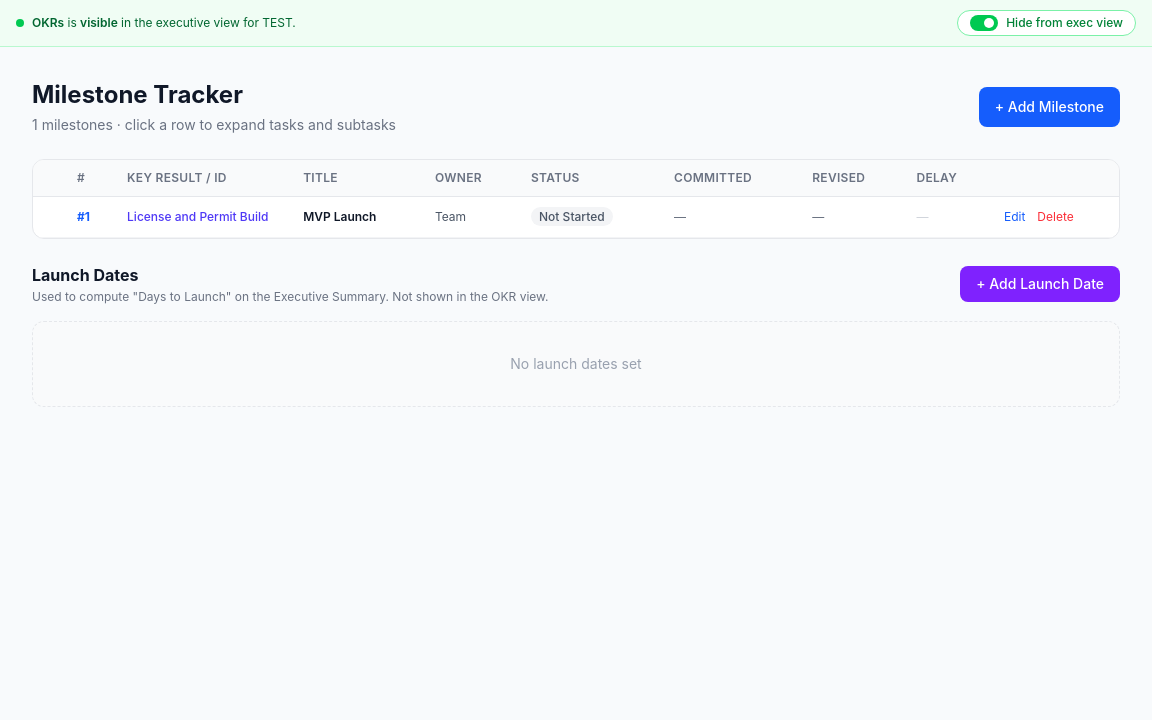
Test: OKREditor › T-32.13: editing a milestone updates its title
Check: the text "MVP Launch" is shown, box [291,196,423,238]
Step 1. Click the button "Edit" → click(1015, 217), box [1004,209,1025,225]
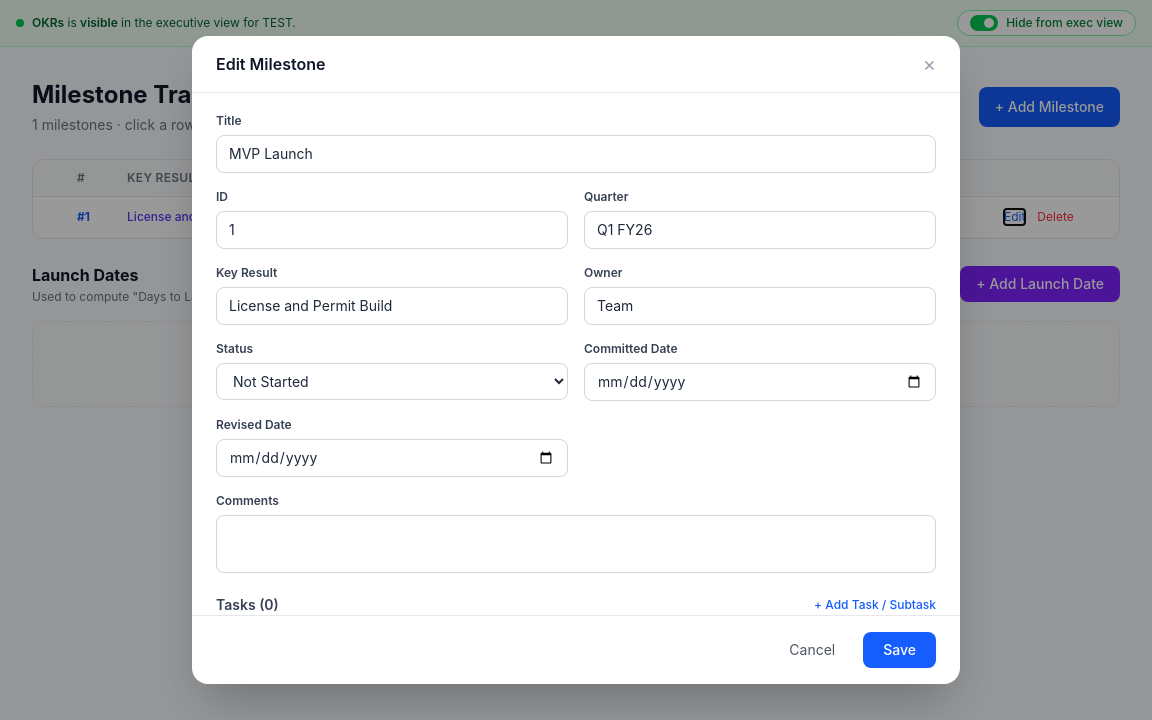
Check: the heading "Edit Milestone" is shown, box [216,52,325,76]
Step 2. Replace the text in the 1st field with "MVP Launch v2" → (576, 154), box [216,135,936,173]
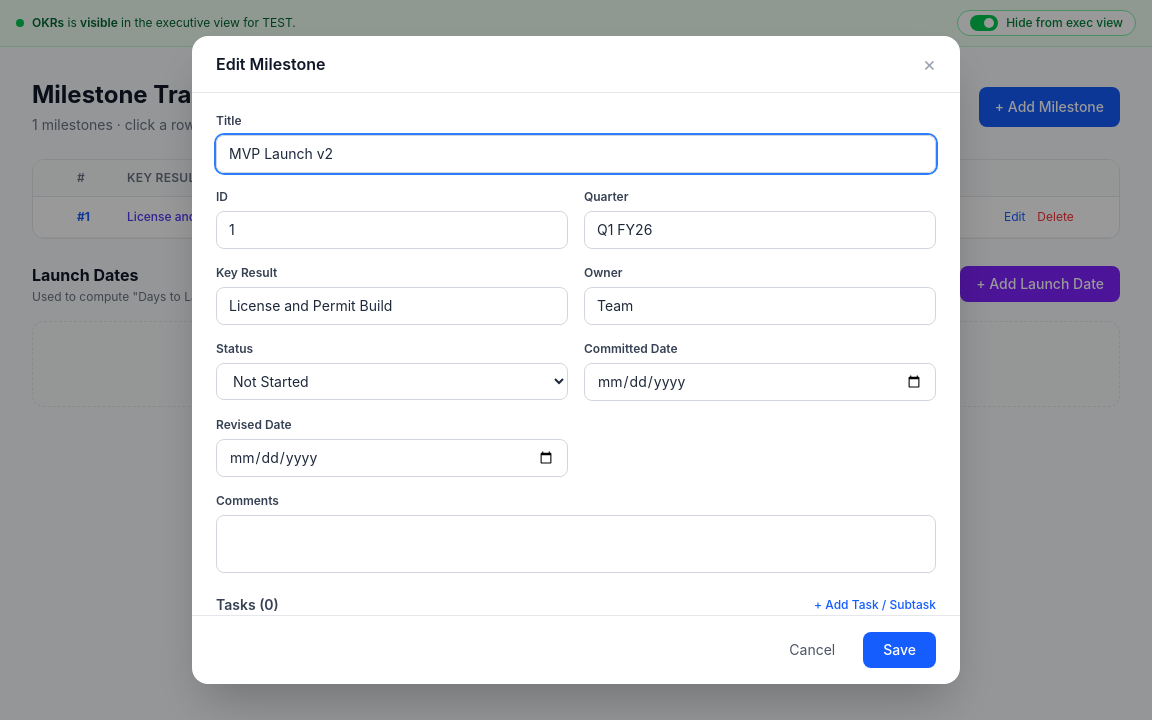
Step 3. Click the button "Save" → click(900, 650), box [863,632,936,668]
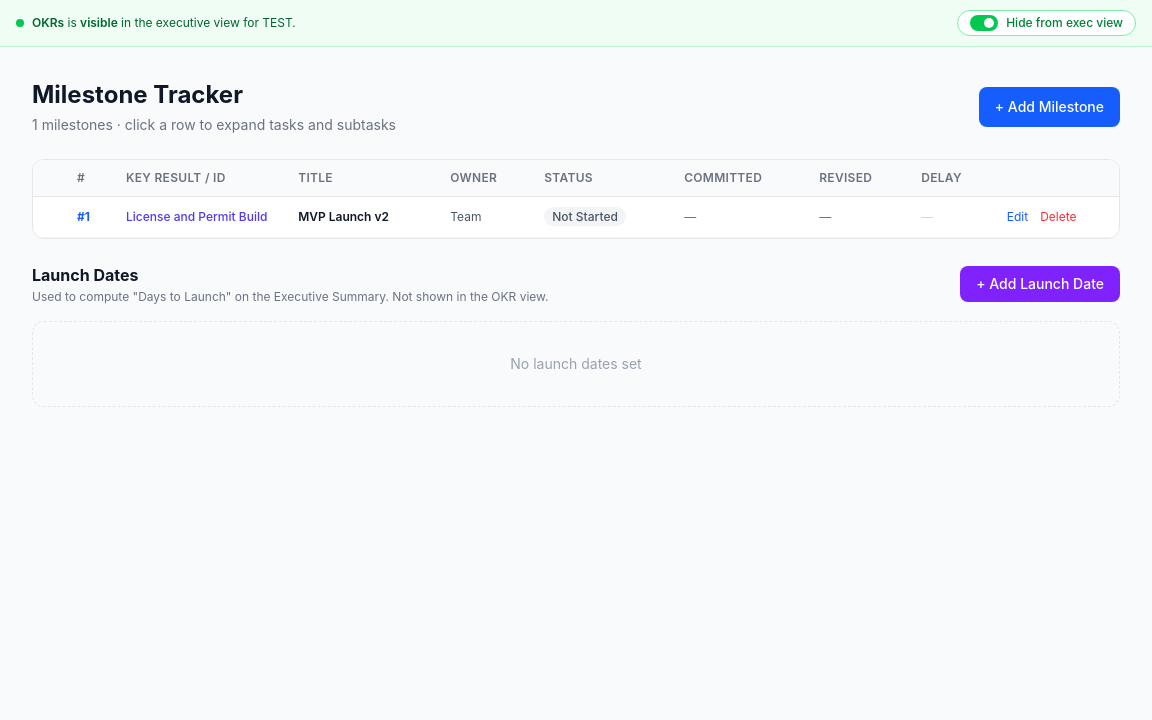
Check: the text "MVP Launch v2" is shown, box [286,196,438,238]
